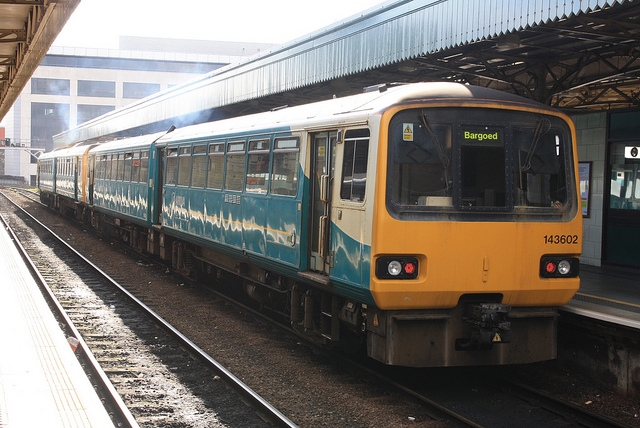Train: (21, 88, 581, 253)
